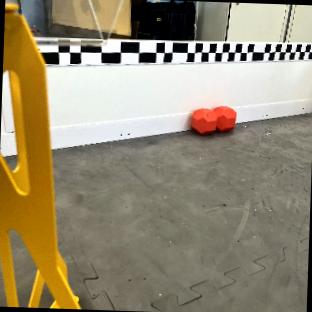V5_RED: (189, 106, 237, 134)
